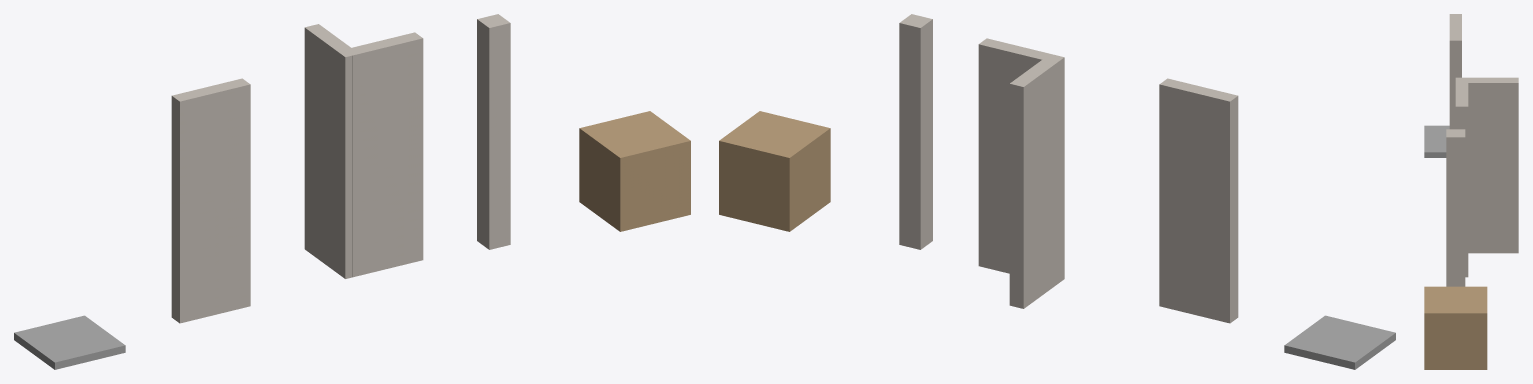
The model's file is mesh_library_parts.glb.
3 renders of one model, left to right at view 1: azimuth 30°, elevation 25°; view 2: azimuth 150°, elevation 25°; view 3: azimuth 270°, elevation 25°, orthographic. The views are drawn at different scales.
Parts seen in each view (by area): view 1: wall_corner, wall_straight, crate_1x1, pillar, floor_1x1; view 2: wall_corner, wall_straight, crate_1x1, pillar, floor_1x1; view 3: wall_corner, crate_1x1, pillar, wall_straight, floor_1x1.
Part boxes in pixels (left/top/right/bottom): wall_corner: left=304, top=24, right=423, bottom=278; wall_straight: left=171, top=78, right=250, bottom=323; crate_1x1: left=579, top=111, right=690, bottom=231; pillar: left=477, top=14, right=510, bottom=249; floor_1x1: left=14, top=315, right=125, bottom=369; wall_corner: left=978, top=38, right=1064, bottom=308; wall_straight: left=1159, top=78, right=1238, bottom=323; crate_1x1: left=719, top=111, right=830, bottom=231; pillar: left=899, top=14, right=932, bottom=249; floor_1x1: left=1284, top=315, right=1395, bottom=369; wall_corner: left=1455, top=77, right=1518, bottom=277; crate_1x1: left=1424, top=286, right=1487, bottom=369; pillar: left=1446, top=129, right=1465, bottom=286; wall_straight: left=1449, top=14, right=1461, bottom=129; floor_1x1: left=1424, top=125, right=1449, bottom=157.
Size of the model in its own units: 9 by 3 by 1.5.
